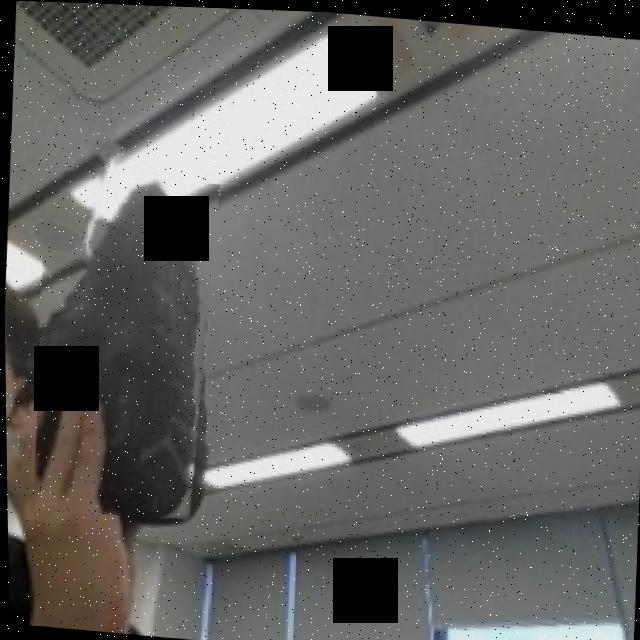shoe: (28, 168, 224, 525)
